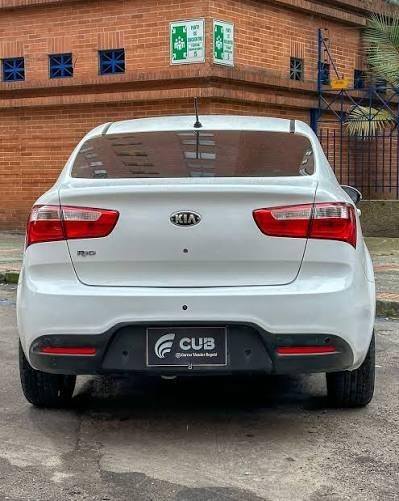car: (11, 124, 384, 401)
